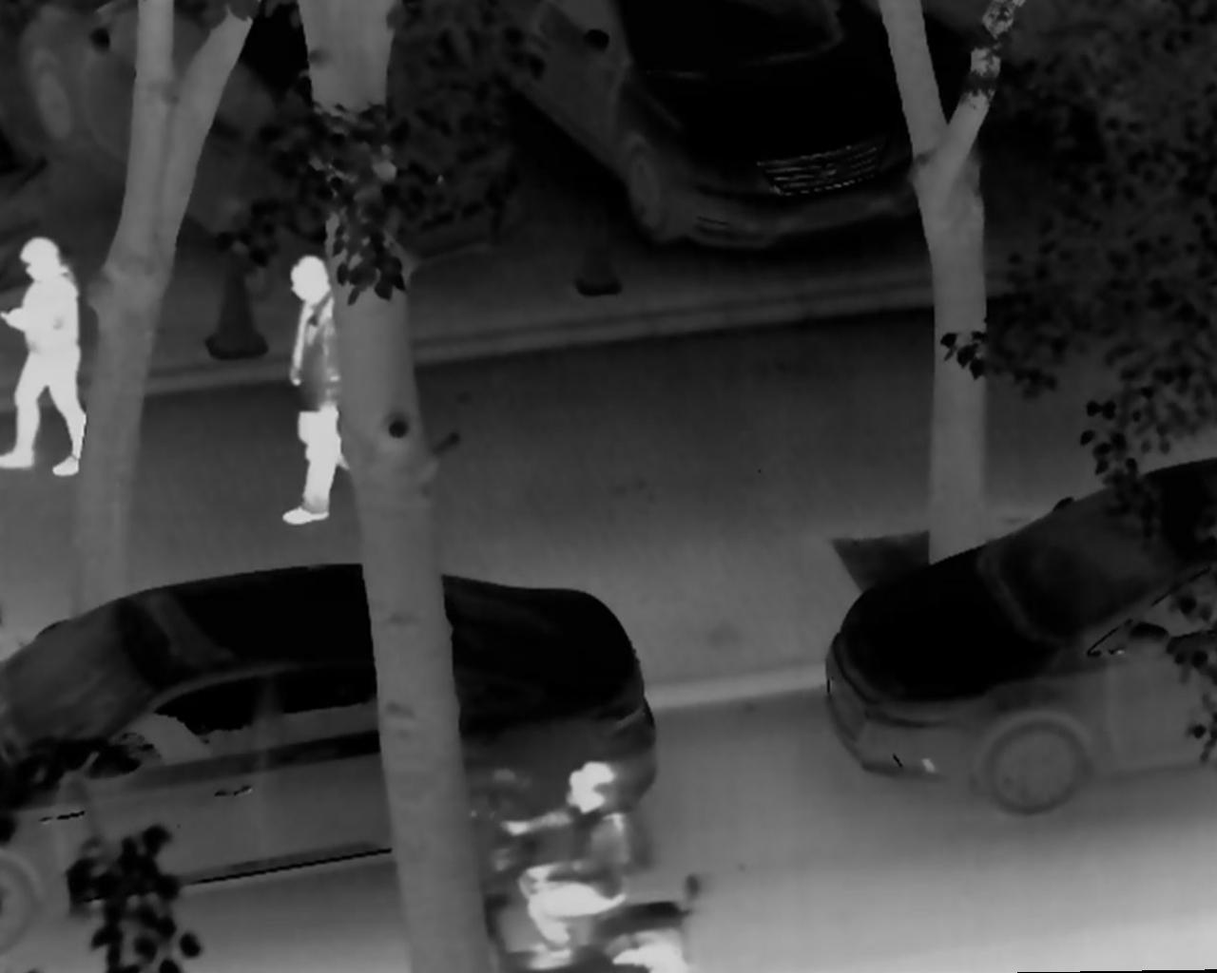person: (263, 255, 390, 528), (503, 763, 631, 970)
